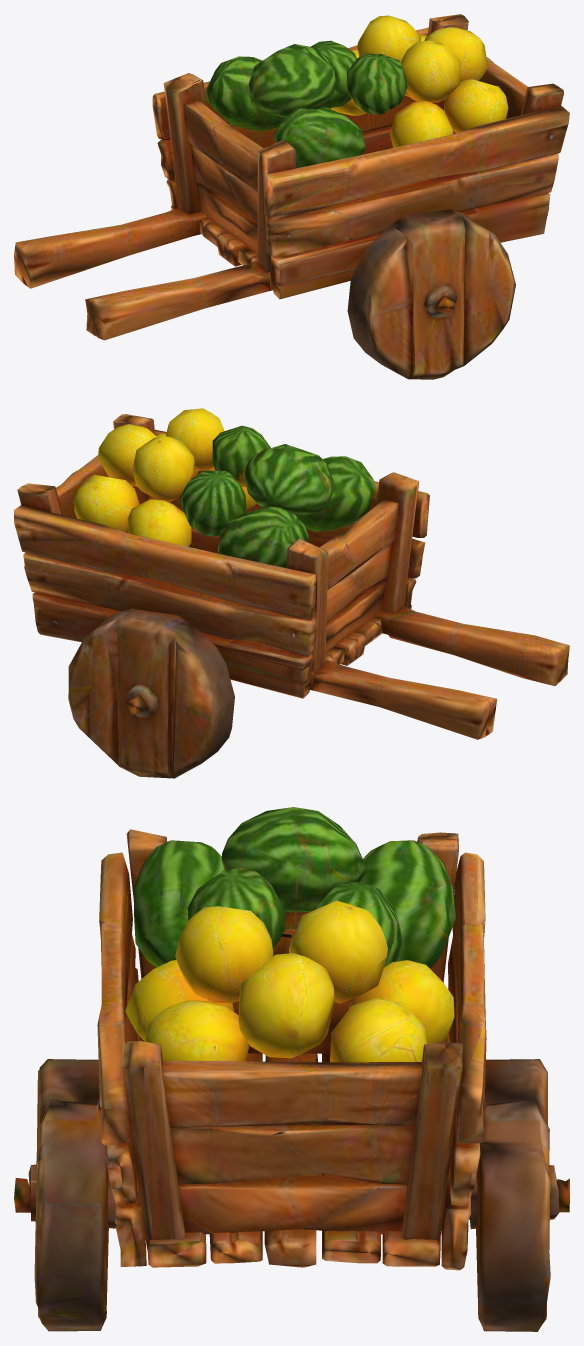
Rendered from cart.glb.
The picture shows the model from 3 angles, top to bottom: view 1: azimuth 30°, elevation 25°; view 2: azimuth 150°, elevation 25°; view 3: azimuth 270°, elevation 25°; orthographic projection. The views are drawn at different scales.
Visible parts, largest first — view 1: geometry_0; view 2: geometry_0; view 3: geometry_0.
Part boxes in pixels (x1=…): geometry_0: x1=14, y1=14, x2=569, y2=379; geometry_0: x1=14, y1=408, x2=569, y2=778; geometry_0: x1=14, y1=807, x2=569, y2=1331.
Size of the model in its own units: 0.957 by 0.5723 by 0.6343.
1 material, 1 textured.
